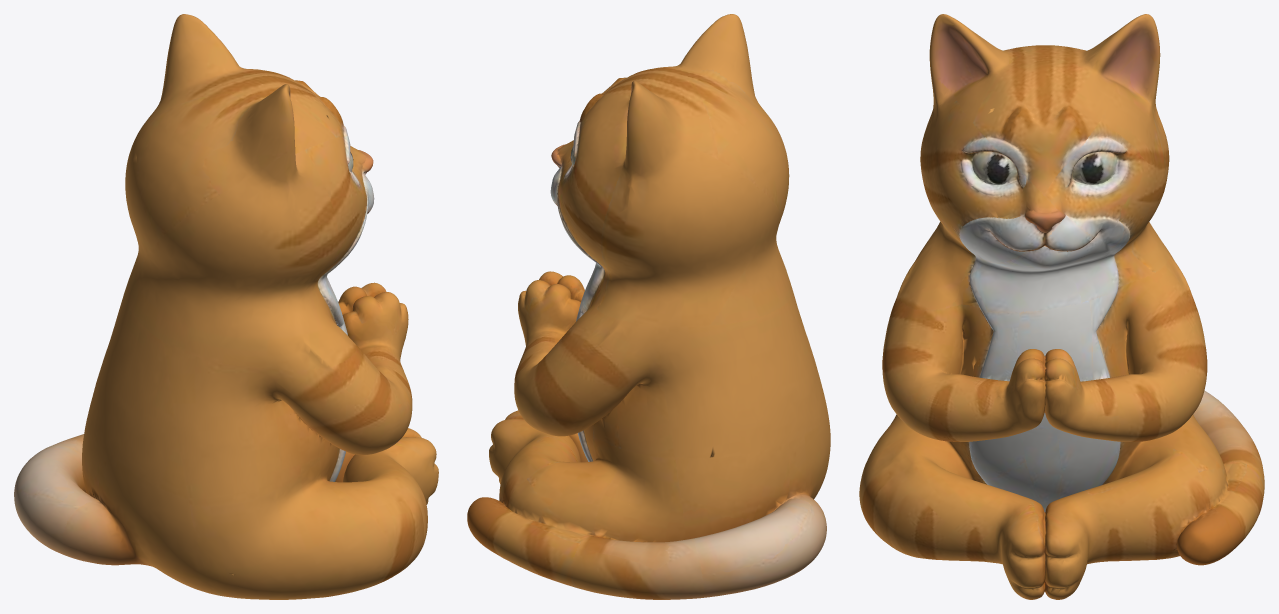
File: noob.glb
3 renders of one model, left to right at view 1: azimuth 30°, elevation 25°; view 2: azimuth 150°, elevation 25°; view 3: azimuth 270°, elevation 25°, orthographic. The views are drawn at different scales.
Parts seen in each view (by area): view 1: tripo_node_1c83b007-2fcb-4869-92c4-2b990493c73e; view 2: tripo_node_1c83b007-2fcb-4869-92c4-2b990493c73e; view 3: tripo_node_1c83b007-2fcb-4869-92c4-2b990493c73e.
Part boxes in pixels (<box>): tripo_node_1c83b007-2fcb-4869-92c4-2b990493c73e: <box>14,14,438,599</box>; tripo_node_1c83b007-2fcb-4869-92c4-2b990493c73e: <box>467,14,830,599</box>; tripo_node_1c83b007-2fcb-4869-92c4-2b990493c73e: <box>859,14,1264,599</box>.
Bounding box in the file's own units: 0.7612 × 0.9999 × 0.7309.
Materials: 1 (1 with a texture image).
